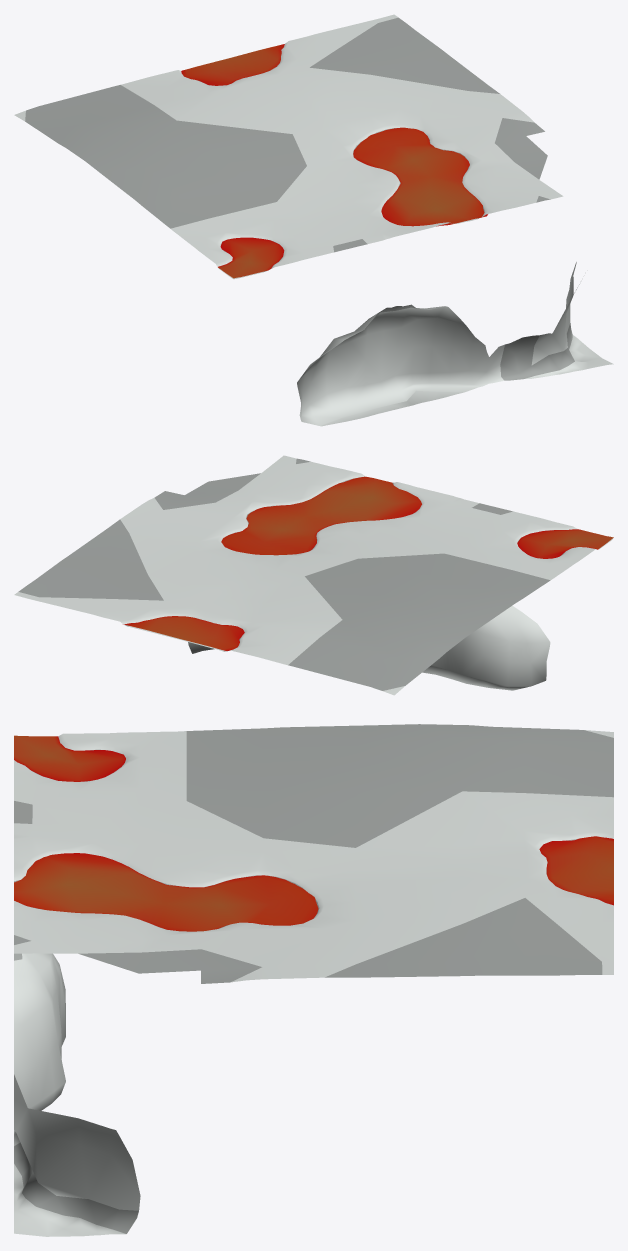
The picture shows the model from 3 angles, top to bottom: view 1: azimuth 30°, elevation 25°; view 2: azimuth 150°, elevation 25°; view 3: azimuth 270°, elevation 25°; orthographic projection. The views are drawn at different scales.
Parts seen in each view (by area): view 1: G:\FFXIV-MapTools\exports\r2f1\bg\ex1\01_roc_r2\fld\r2f1\bgp (×9); view 2: G:\FFXIV-MapTools\exports\r2f1\bg\ex1\01_roc_r2\fld\r2f1\bgp (×5); view 3: G:\FFXIV-MapTools\exports\r2f1\bg\ex1\01_roc_r2\fld\r2f1\bgp (×7).
Boxes of the visible parts, x1,y1,x2,y2 form: G:\FFXIV-MapTools\exports\r2f1\bg\ex1\01_roc_r2\fld\r2f1\bgp (×9): (14, 14, 613, 426); G:\FFXIV-MapTools\exports\r2f1\bg\ex1\01_roc_r2\fld\r2f1\bgp (×5): (14, 455, 613, 695); G:\FFXIV-MapTools\exports\r2f1\bg\ex1\01_roc_r2\fld\r2f1\bgp (×7): (14, 724, 613, 1236).
Bounding box in the file's own units: 128 × 62 × 128.
